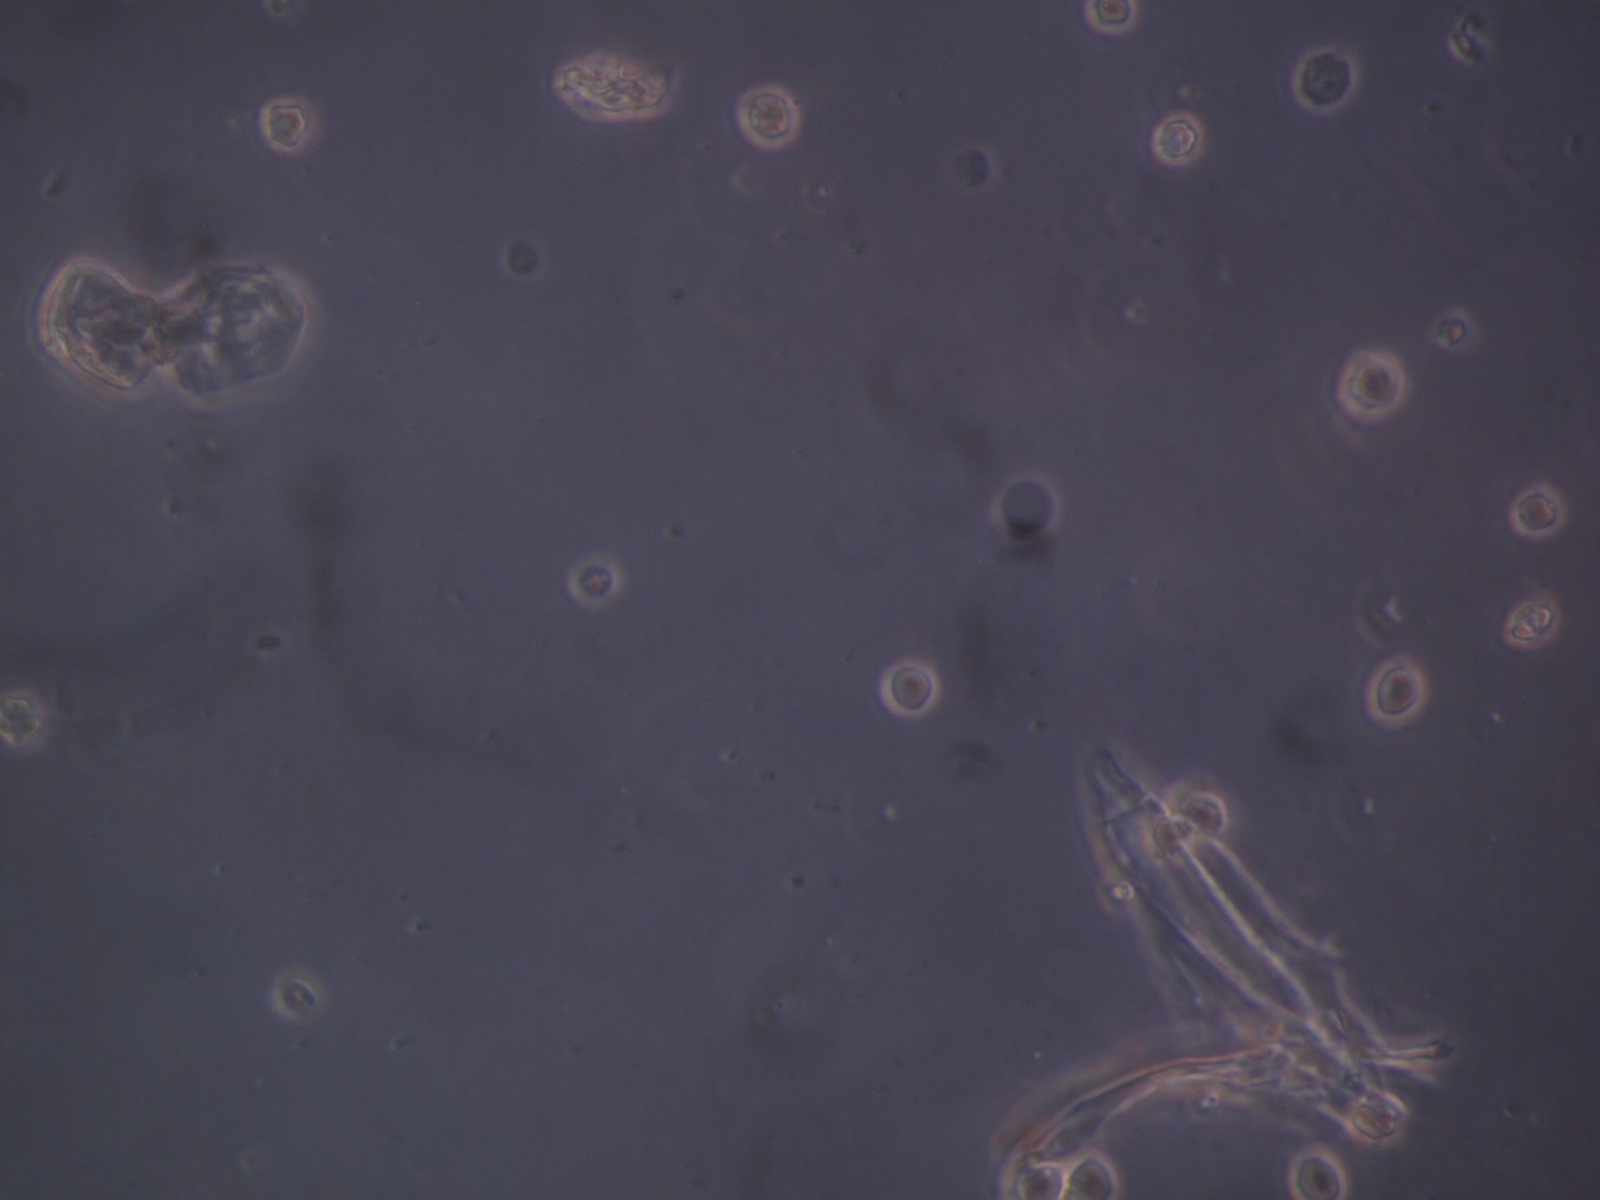hemo: (1339, 350, 1405, 418), (1293, 44, 1357, 112), (1364, 659, 1426, 729), (737, 86, 801, 150), (1164, 782, 1230, 842), (1502, 591, 1563, 649), (881, 661, 941, 718), (1286, 1143, 1347, 1200), (266, 964, 328, 1020), (1, 687, 52, 751), (568, 553, 624, 608), (1151, 108, 1204, 165), (1511, 485, 1563, 539), (262, 96, 310, 153), (1063, 1152, 1120, 1200), (1349, 1103, 1410, 1145), (1149, 814, 1196, 855), (1017, 1163, 1066, 1200), (1431, 305, 1471, 348), (1089, 1, 1139, 33)
